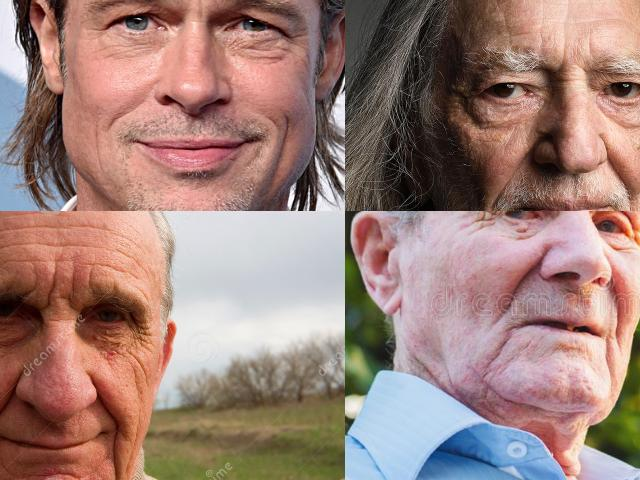chin: (486, 327, 512, 367), (38, 465, 81, 480), (601, 346, 617, 386)
crows_feet: (448, 77, 478, 105), (132, 319, 154, 350), (284, 30, 308, 54), (82, 21, 106, 42), (474, 211, 498, 230)
forehead: (89, 220, 128, 244), (35, 217, 75, 239), (96, 255, 132, 277), (0, 252, 38, 270), (564, 15, 612, 29), (42, 236, 84, 252), (0, 219, 31, 239), (497, 10, 517, 40), (0, 237, 21, 256), (533, 0, 548, 17)
frown_line: (44, 276, 58, 311), (556, 38, 572, 68), (65, 272, 79, 304), (584, 30, 598, 60), (555, 74, 583, 88), (82, 266, 96, 292), (26, 269, 40, 295), (190, 0, 209, 17)
gummy_smile: (504, 148, 536, 192), (103, 98, 145, 126), (512, 254, 538, 298), (95, 388, 124, 426), (602, 153, 632, 189), (0, 386, 18, 425), (612, 285, 626, 333)
masseter: (275, 117, 291, 185), (91, 131, 107, 175), (133, 354, 151, 386)
sad_smile: (101, 437, 125, 480)
